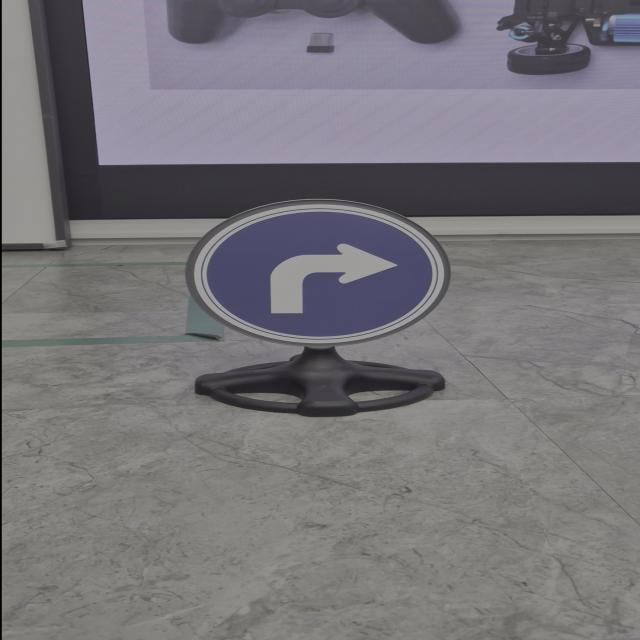right_dierection: (192, 197, 452, 348)
